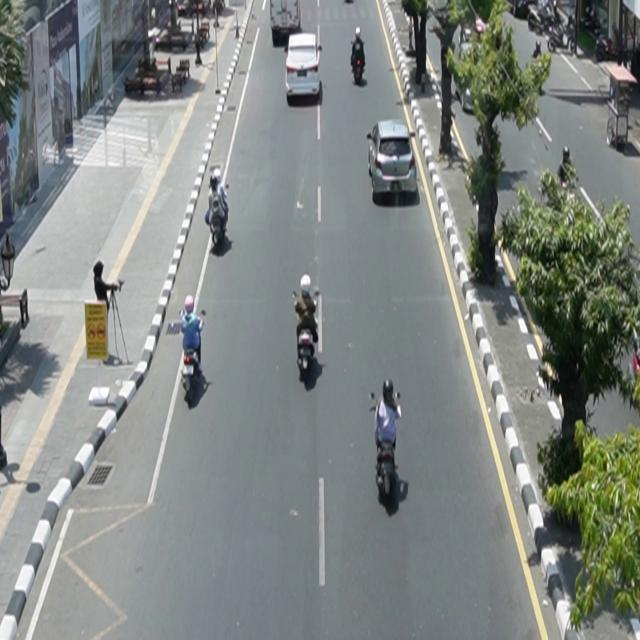car: (367, 120, 418, 197), (285, 33, 323, 100)
